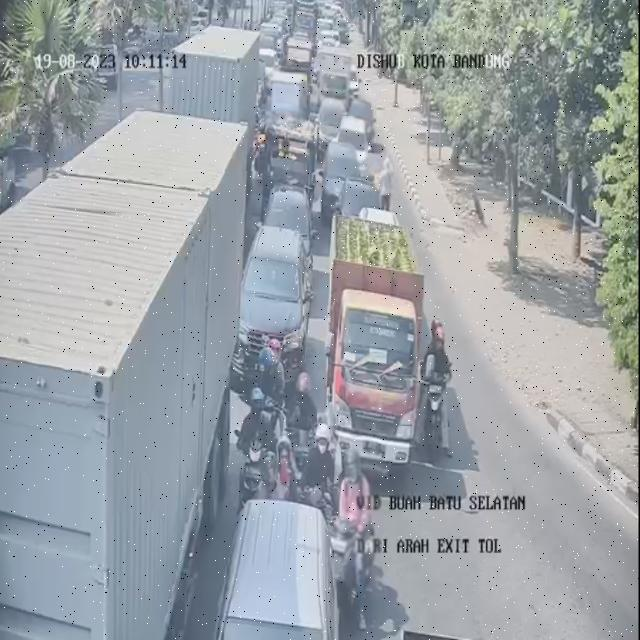cars: (210, 496, 341, 638), (237, 222, 312, 371), (263, 124, 315, 219), (266, 186, 313, 276), (265, 68, 307, 145), (323, 140, 362, 216), (336, 174, 379, 230), (318, 58, 354, 114), (336, 116, 368, 173), (315, 96, 342, 152), (284, 31, 312, 72), (354, 95, 374, 142)
motorcycle: (334, 449, 382, 591), (304, 416, 344, 520), (242, 386, 277, 498), (286, 363, 317, 479), (420, 318, 452, 427), (375, 149, 393, 206), (260, 88, 270, 138)
truck: (0, 161, 224, 639), (331, 215, 428, 478), (165, 24, 264, 171)
